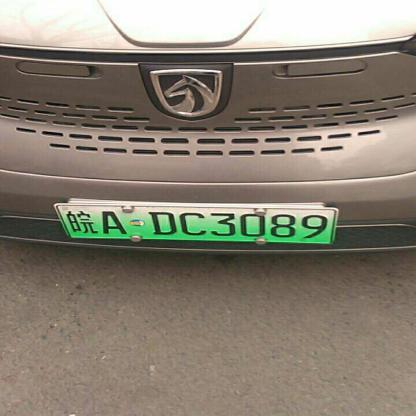lp: (57, 205, 70, 243)
